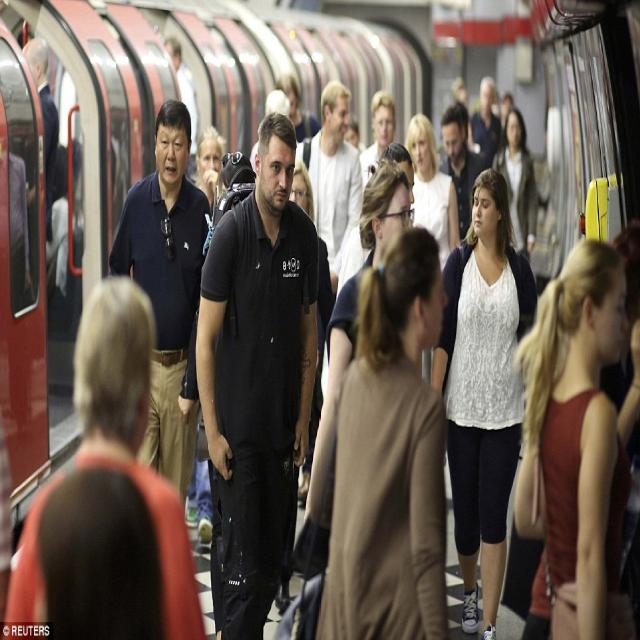body: (271, 217, 455, 639), (4, 275, 208, 640), (190, 107, 326, 639), (425, 161, 544, 639), (510, 231, 637, 639), (296, 159, 414, 584), (107, 97, 213, 521), (25, 439, 174, 639), (272, 158, 337, 613), (6, 31, 83, 399), (589, 213, 639, 639), (290, 77, 363, 299), (404, 111, 464, 270), (490, 105, 540, 265), (436, 101, 490, 246), (261, 75, 326, 184), (206, 137, 260, 256), (162, 34, 200, 188), (358, 88, 398, 195), (468, 74, 503, 168), (192, 123, 228, 209), (378, 140, 416, 216), (446, 73, 468, 125), (490, 90, 518, 130), (340, 115, 360, 150)
